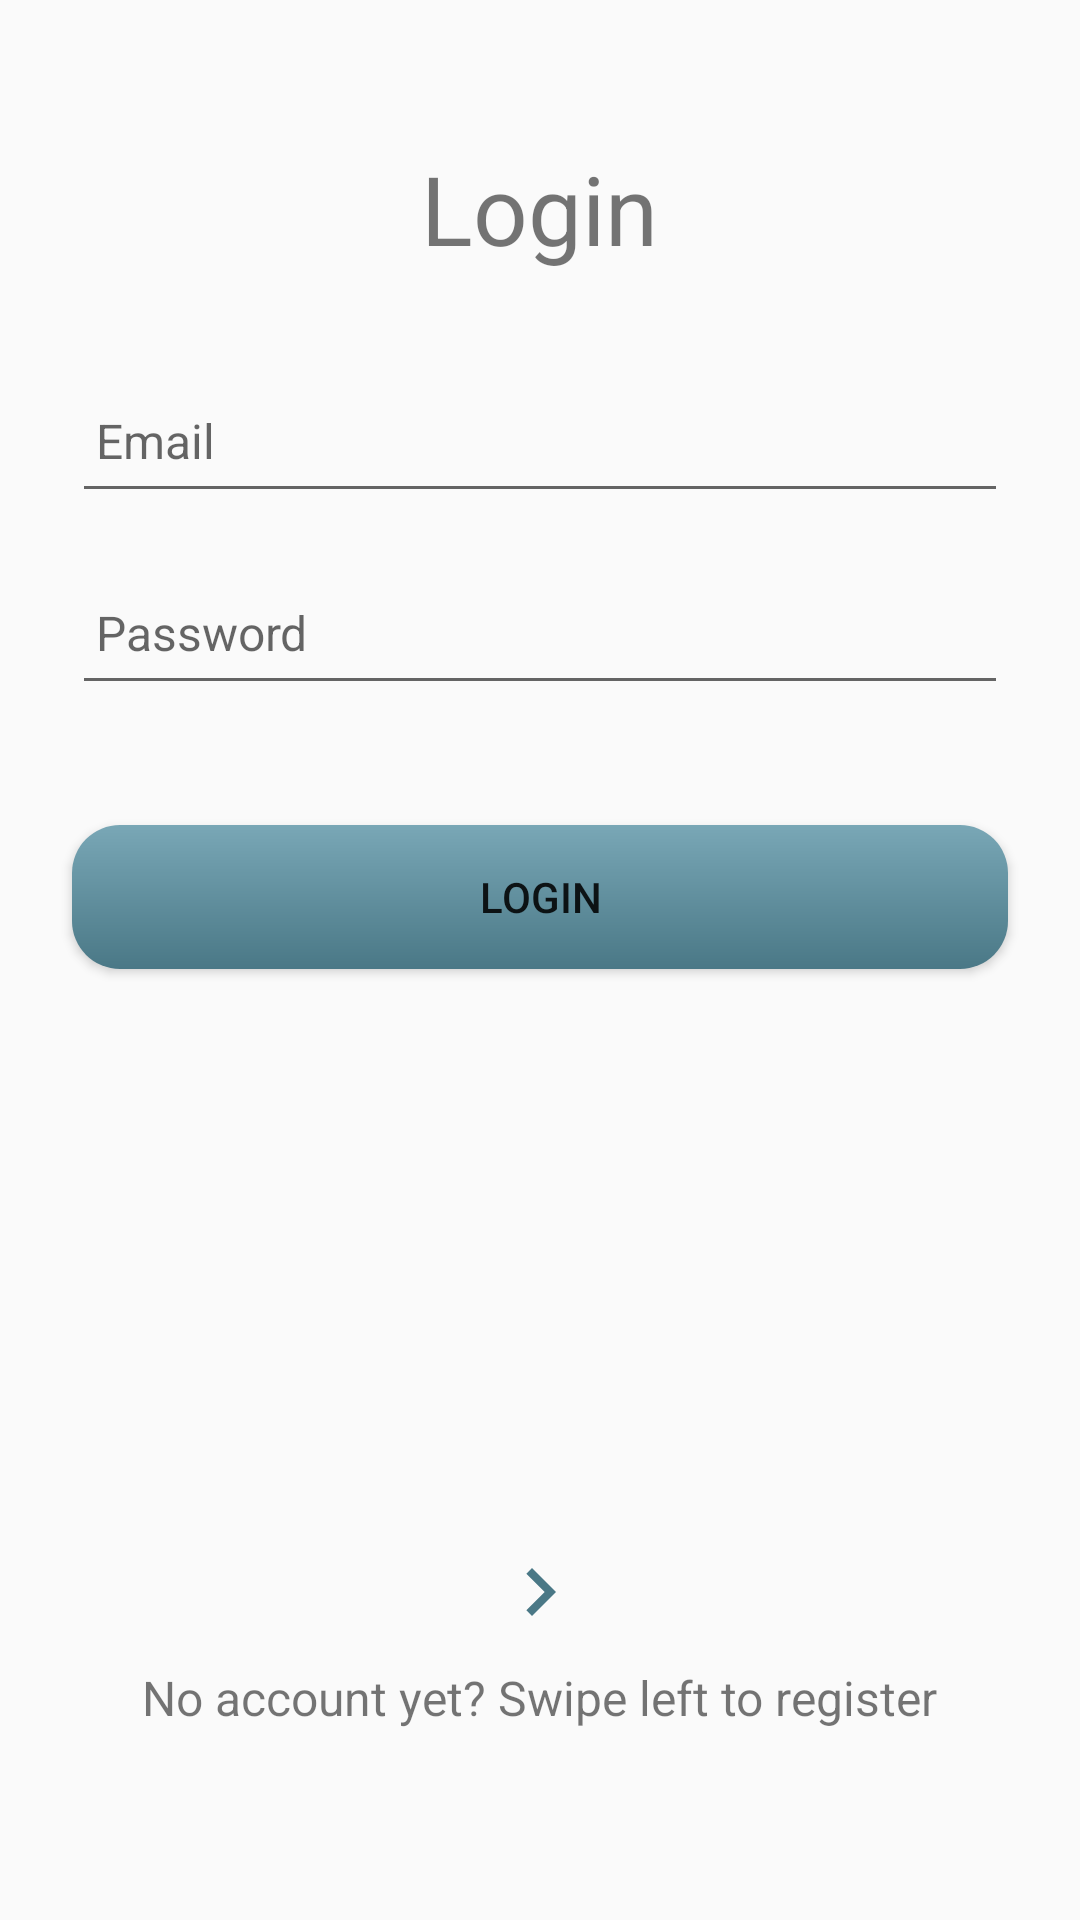

Point at icon controls on the screen. Image size 1080px×1920px, points as point (x, y).
arrow right: point (541, 1592)
